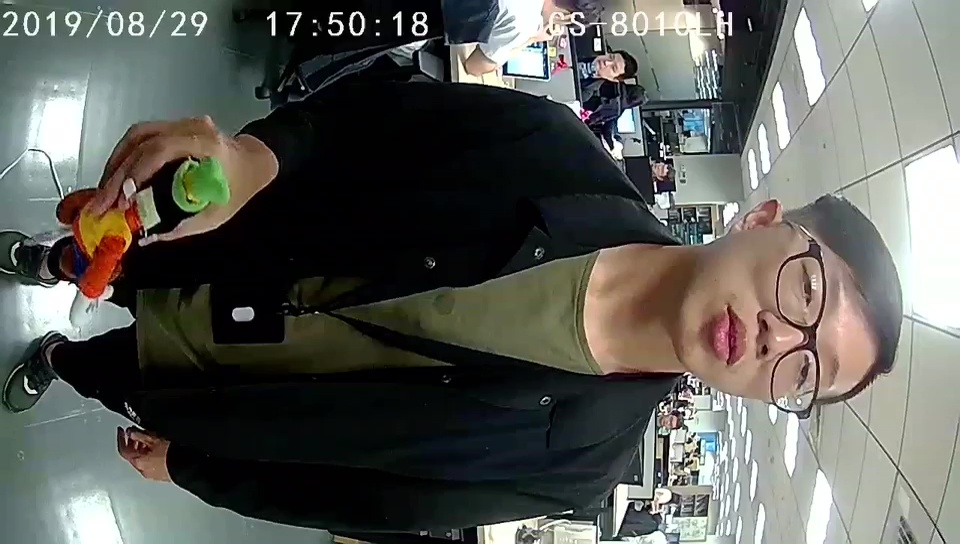goofy: (55, 157, 232, 329)
